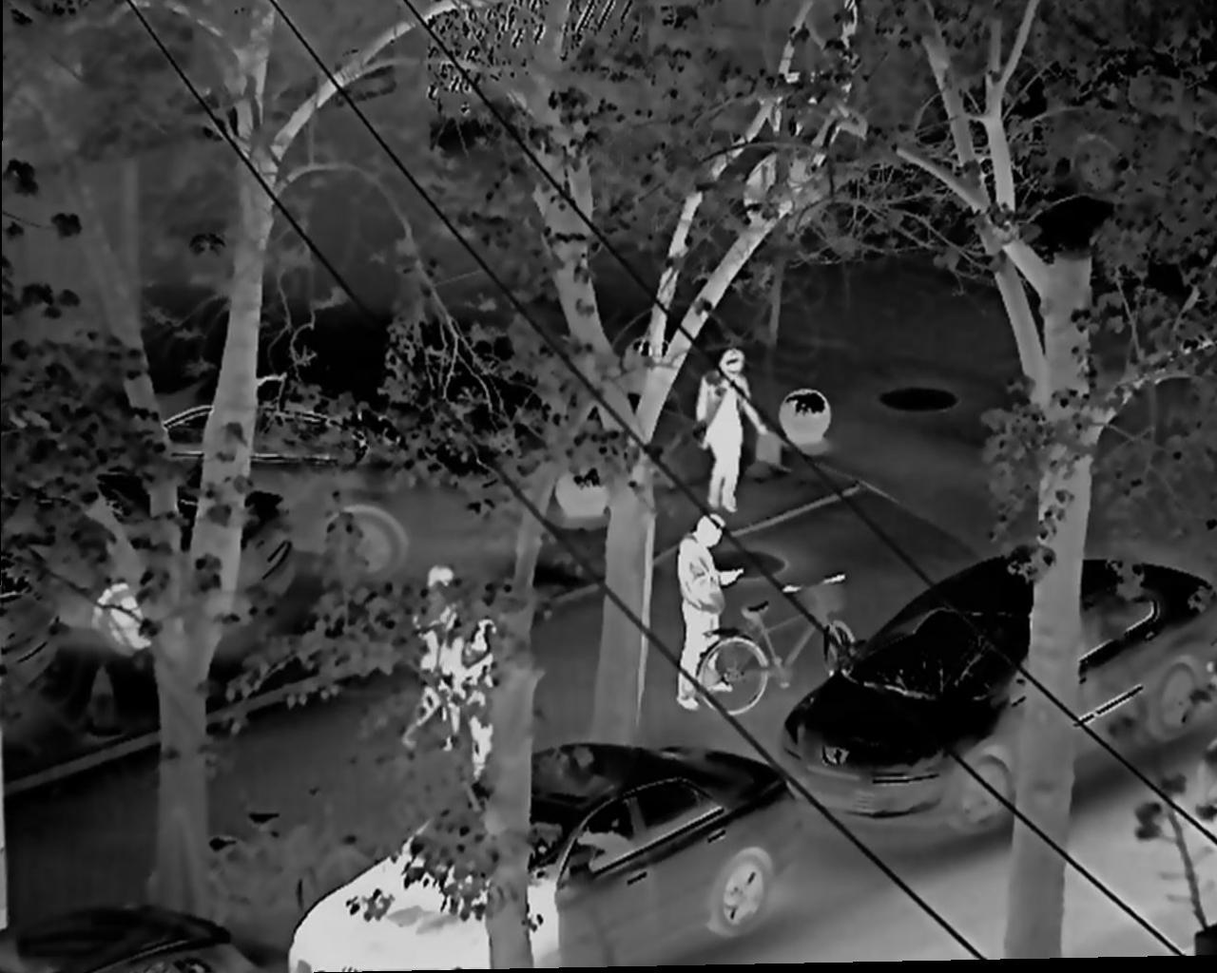person: (672, 515, 737, 711), (693, 351, 769, 514), (404, 560, 457, 755), (441, 621, 499, 775)
